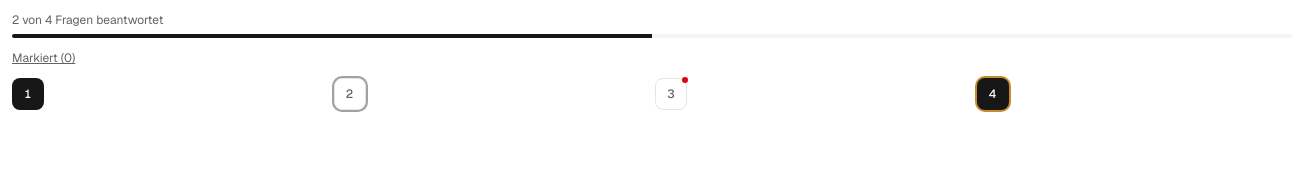
Test: variant rail › explains how to bookmark when the filter matches nothing
The width and height of the screenshot is (1292, 172).
Expected: the text "Keine Fragen markiert" is not shown
Step 1. Click the button "Markiert (0)" → (44, 58), box top-left (12, 50), bottom-right (75, 66)
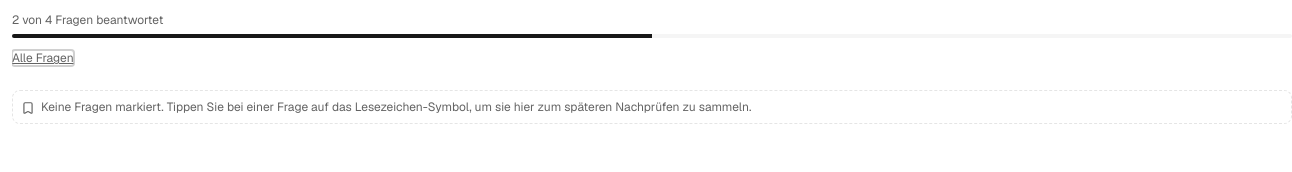
Result: the text "Keine Fragen markiert" is shown at top-left (41, 99), bottom-right (751, 115)
